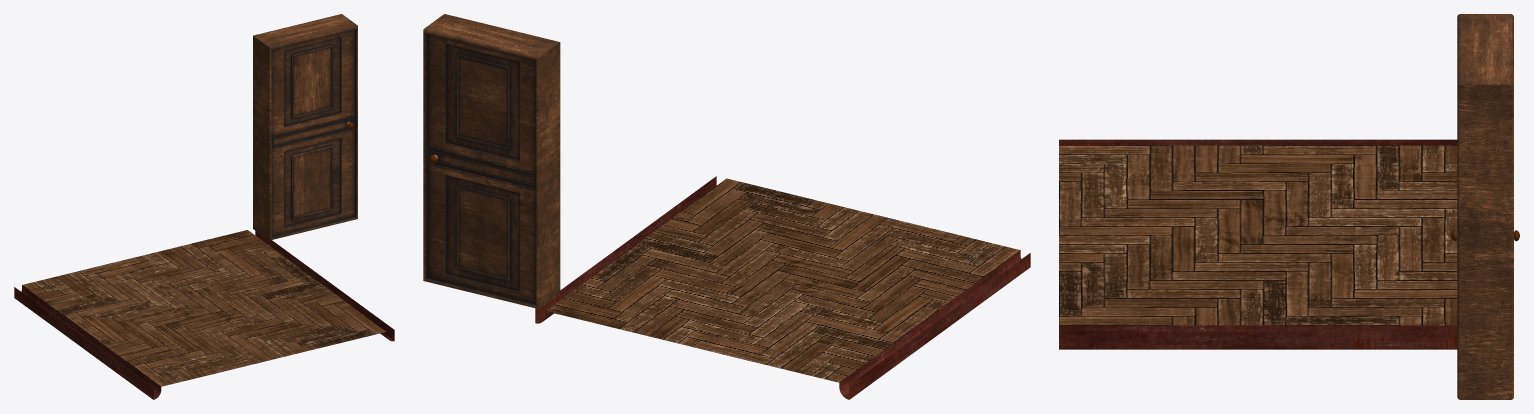
The model's file is assets provisórios nosfejhonsons.fbx.
The picture shows the model from 3 angles, left to right: view 1: azimuth 30°, elevation 25°; view 2: azimuth 150°, elevation 25°; view 3: azimuth 270°, elevation 25°; orthographic projection. The views are drawn at different scales.
Parts seen in each view (by area): view 1: pCube7, pCylinder9; view 2: pCube7, pCylinder9; view 3: pCube7, pCylinder9.
Boxes of the visible parts, x1,y1,x2,y2 form: pCube7: (14, 230, 394, 399); pCylinder9: (253, 14, 357, 240); pCube7: (535, 176, 1030, 399); pCylinder9: (423, 14, 560, 308); pCube7: (1059, 139, 1457, 349); pCylinder9: (1451, 14, 1519, 399).
Size of the model in its own units: 4.07 by 2.43 by 3.05.
